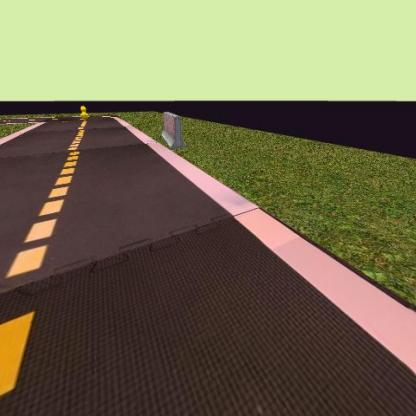Barrier: (161, 112, 186, 148)
Duckie: (79, 104, 89, 121)
